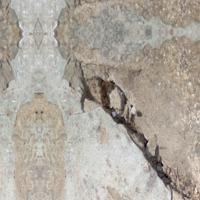crack: (68, 43, 199, 189)
